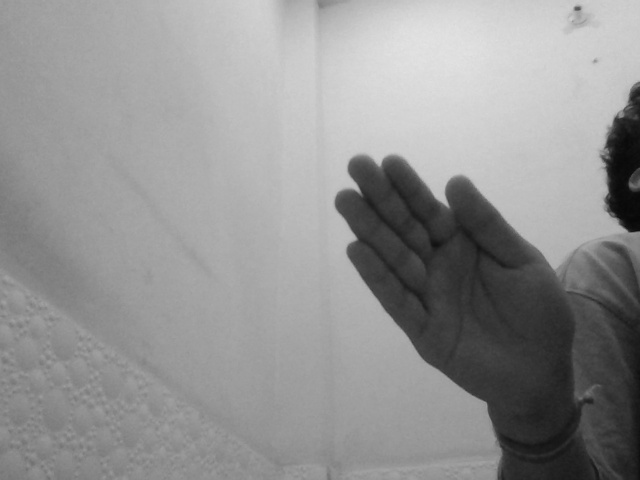Hello: (330, 147, 576, 406)
